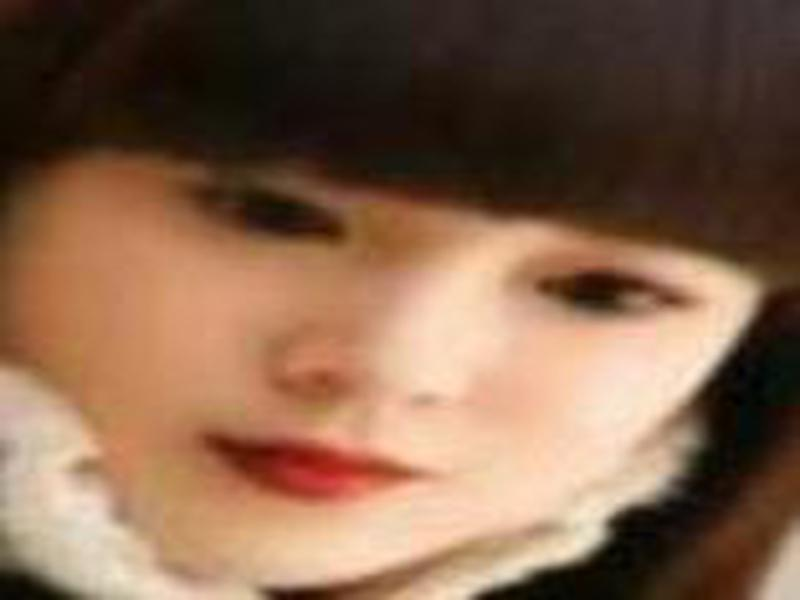without_mask: (49, 102, 738, 568)
